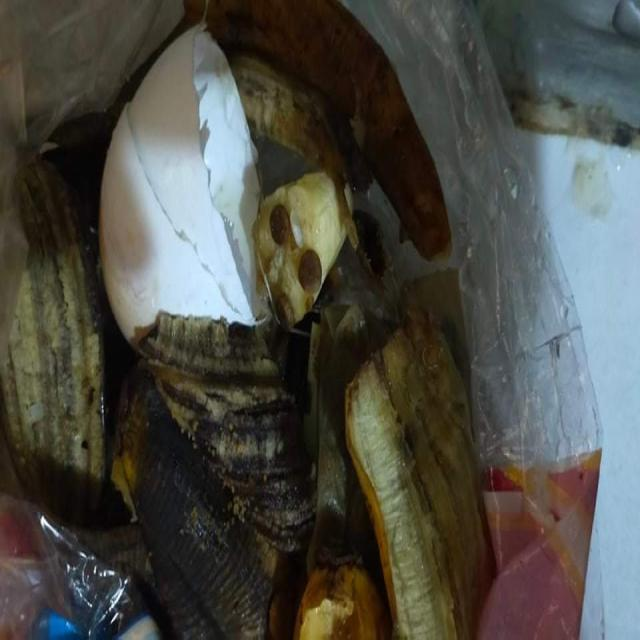egg shell: (98, 22, 264, 360)
